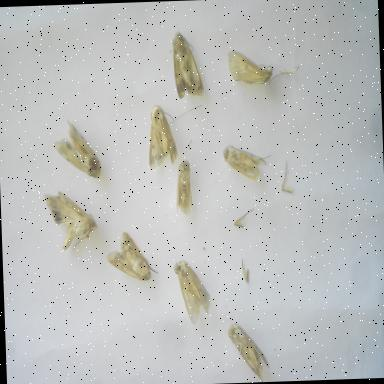abw: (36, 187, 100, 256), (48, 116, 106, 184), (222, 316, 276, 383), (104, 228, 160, 288), (171, 256, 214, 329), (168, 24, 207, 100), (143, 101, 181, 173), (219, 142, 274, 186), (224, 44, 276, 90), (170, 158, 196, 219)
